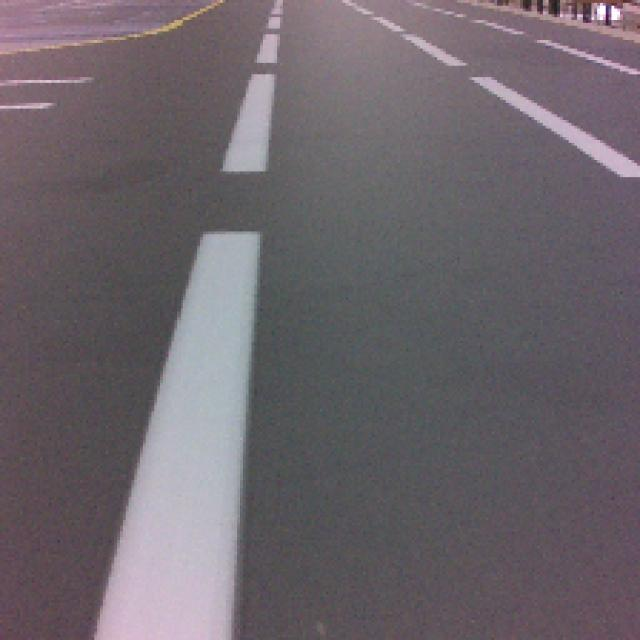Guard rail: (96, 232, 266, 640)
